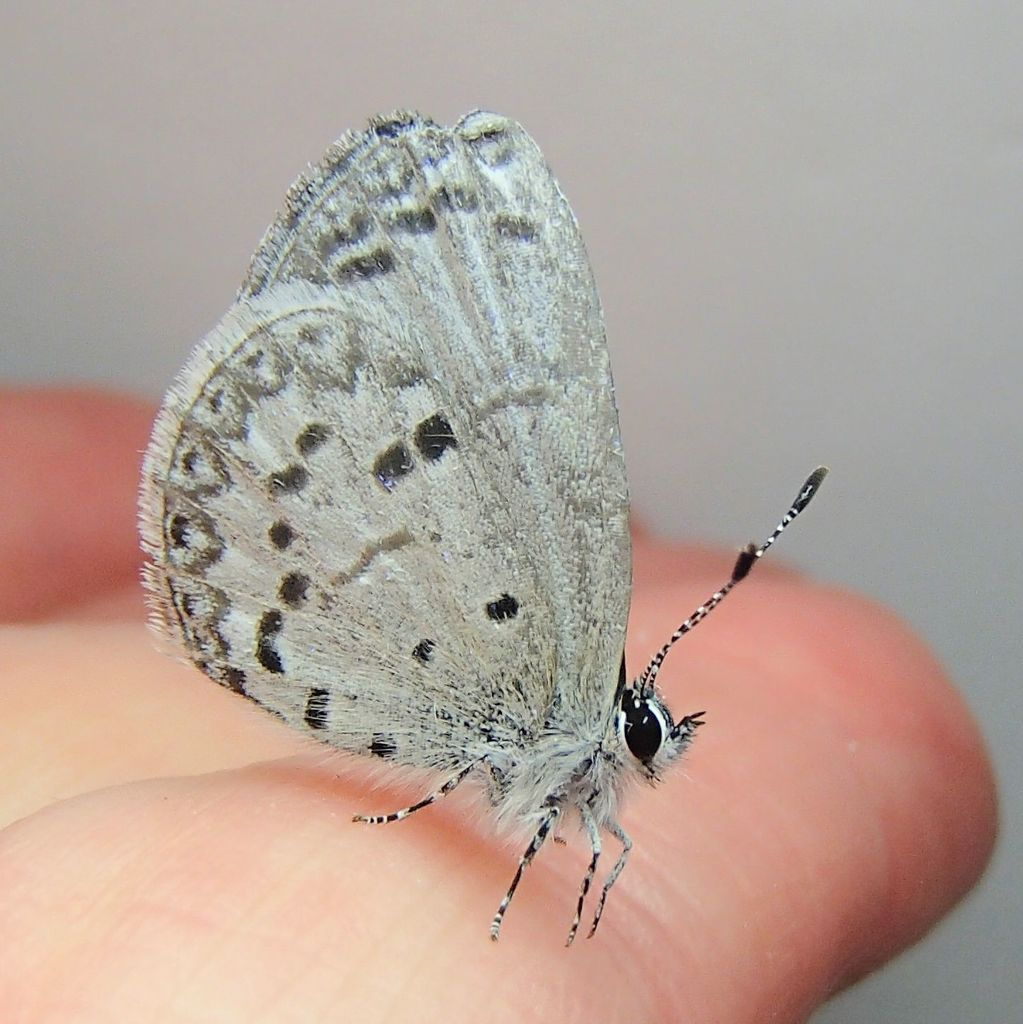Butterfly: (106, 112, 851, 920)
